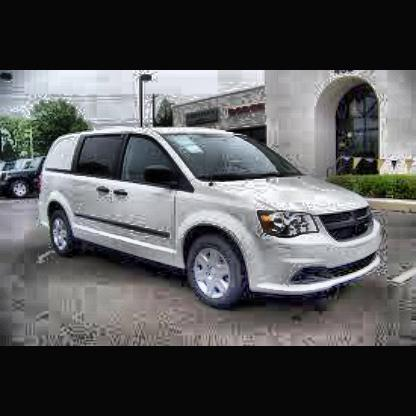Ram C-V Cargo Van Minivan 2012: (41, 129, 382, 304)
